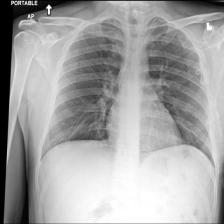normal: (39, 13, 219, 187)
